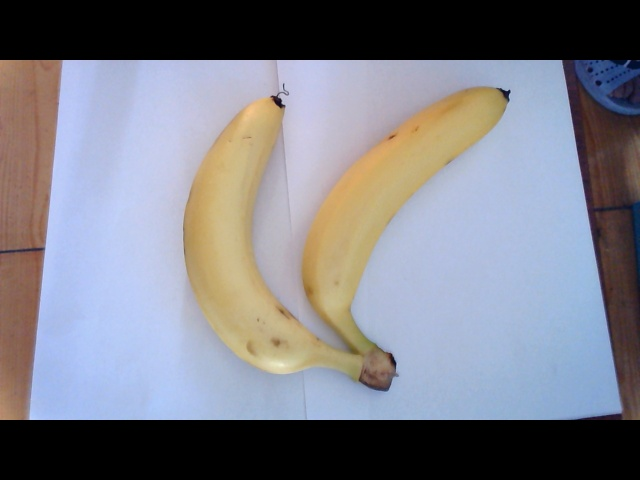banana: (303, 83, 504, 374), (178, 106, 307, 381)
